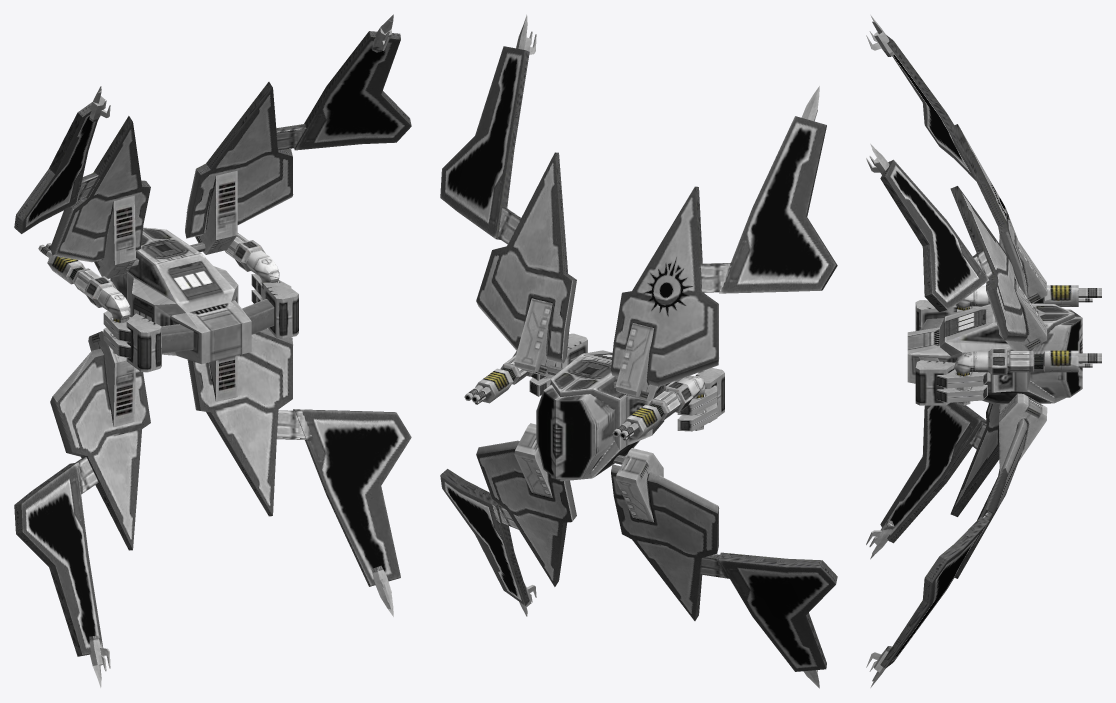
Rendered from starviper2.obj.
3 views of the same model, side by side, from view 1: azimuth 30°, elevation 25°; view 2: azimuth 150°, elevation 25°; view 3: azimuth 270°, elevation 25° (orthographic). The views are drawn at different scales.
Visible parts, largest first — view 1: NV_virago_Cube15_auv; view 2: NV_virago_Cube15_auv; view 3: NV_virago_Cube15_auv.
Part boxes in pixels (<box>): NV_virago_Cube15_auv: <box>14,14,411,687</box>; NV_virago_Cube15_auv: <box>440,15,837,688</box>; NV_virago_Cube15_auv: <box>866,15,1101,687</box>.
Size of the model in its own units: 2.49 by 3.64 by 1.43.
Materials: 1 (1 with a texture image).
